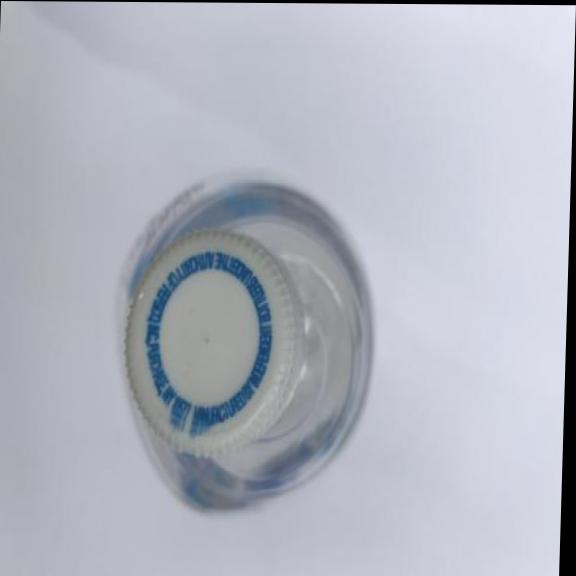Plastik: (99, 156, 382, 524)
